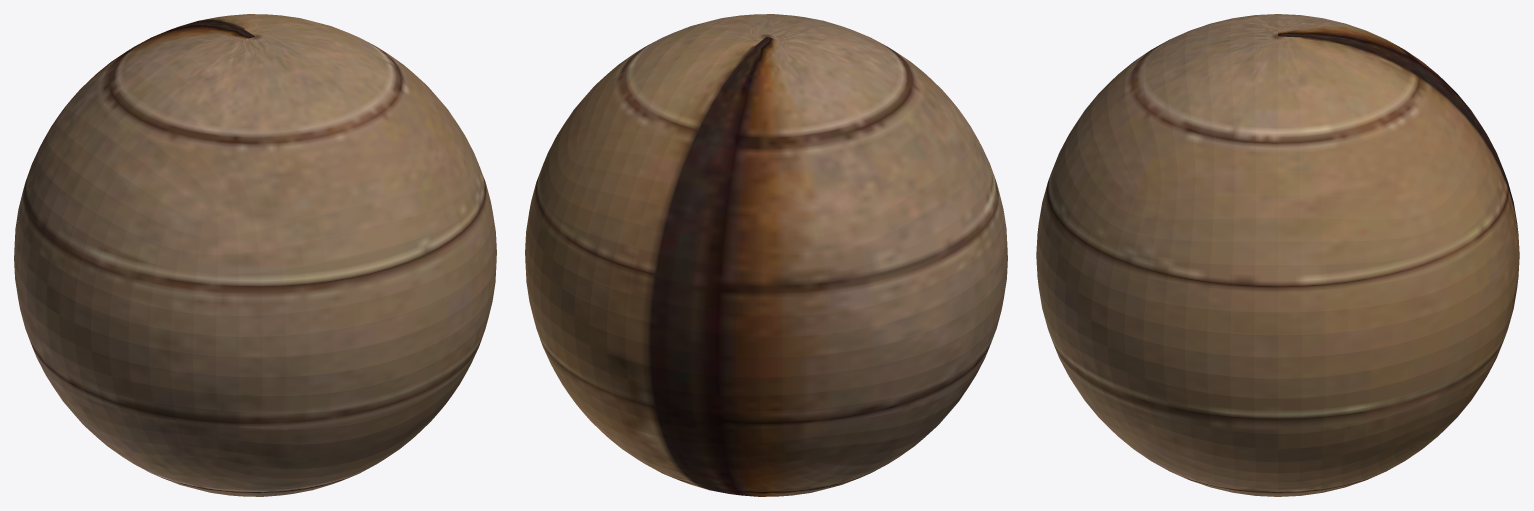
3 views of the same model, side by side, from view 1: azimuth 30°, elevation 25°; view 2: azimuth 150°, elevation 25°; view 3: azimuth 270°, elevation 25° (orthographic).
Visible parts, largest first — view 1: S_Sphere_HP.mo; view 2: S_Sphere_HP.mo; view 3: S_Sphere_HP.mo.
Part boxes in pixels (x1,y1,x2,y2): S_Sphere_HP.mo: (14,14,496,496); S_Sphere_HP.mo: (525,14,1007,496); S_Sphere_HP.mo: (1036,14,1519,496).
Bounding box in the file's own units: 1000 × 1000 × 1000.
Materials: 1 (1 with a texture image).
